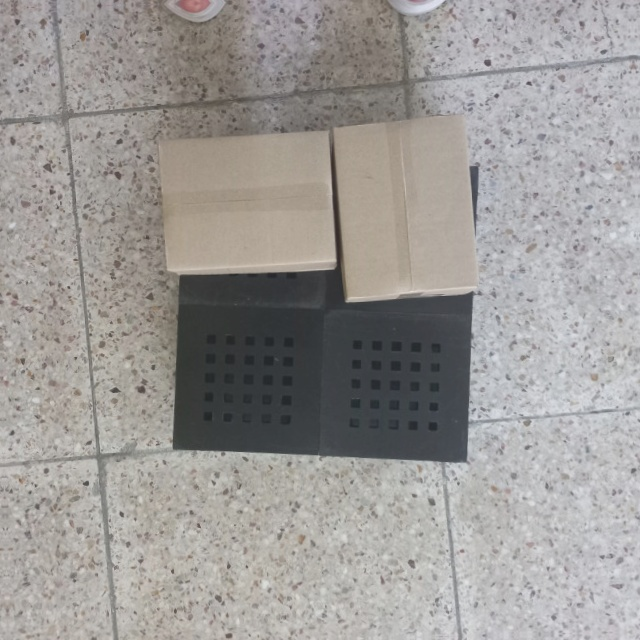box: (327, 110, 483, 308), (154, 125, 339, 282)
